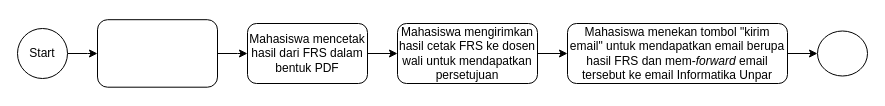
This 885x106 diagram has some shape labels left out. Each missing label, with the centre of its shape:
"end" goes at point (842, 53).
"Mahasiswa mengisikan mata kuliah yang ingin diambil pada Student Portal" goes at point (157, 53).
